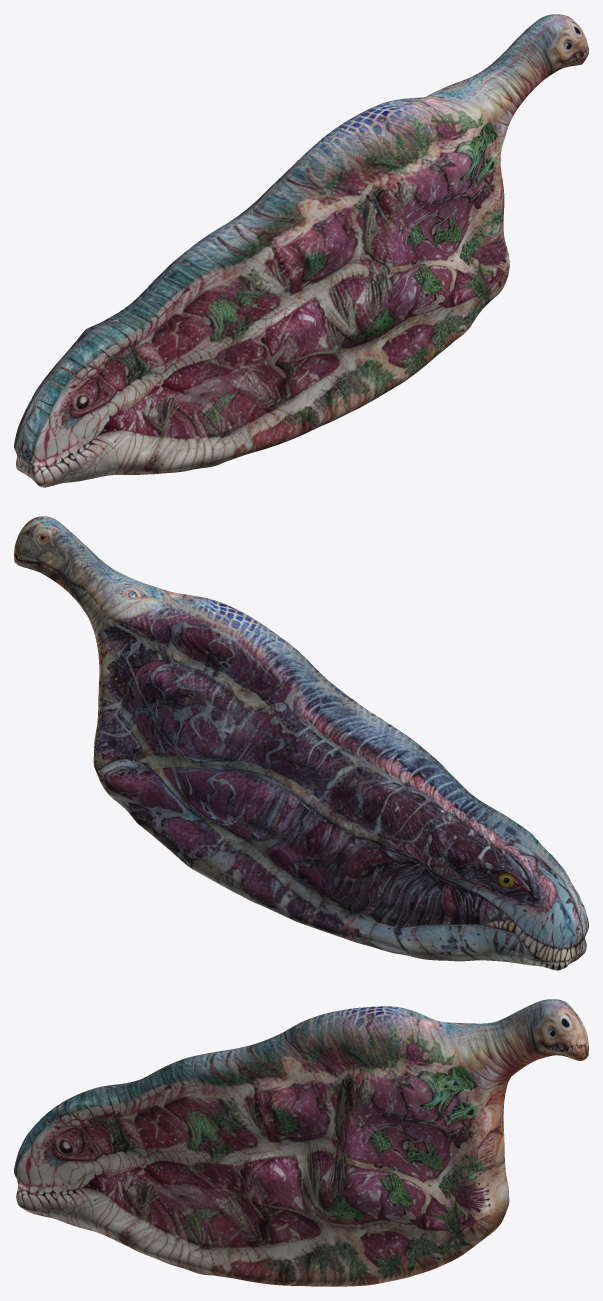
The picture shows the model from 3 angles, top to bottom: view 1: azimuth 30°, elevation 25°; view 2: azimuth 150°, elevation 25°; view 3: azimuth 330°, elevation 25°; orthographic projection. The views are drawn at different scales.
Bounding box in the file's own units: 1.2 × 0.711 × 0.166.
1 material, 1 textured.
